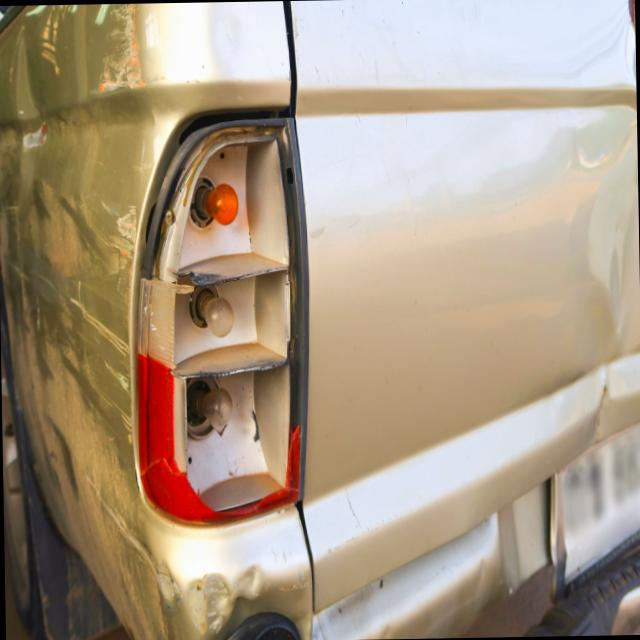Cabossage: (165, 569, 287, 638), (573, 370, 636, 454)
Phare abime: (116, 95, 307, 525)
